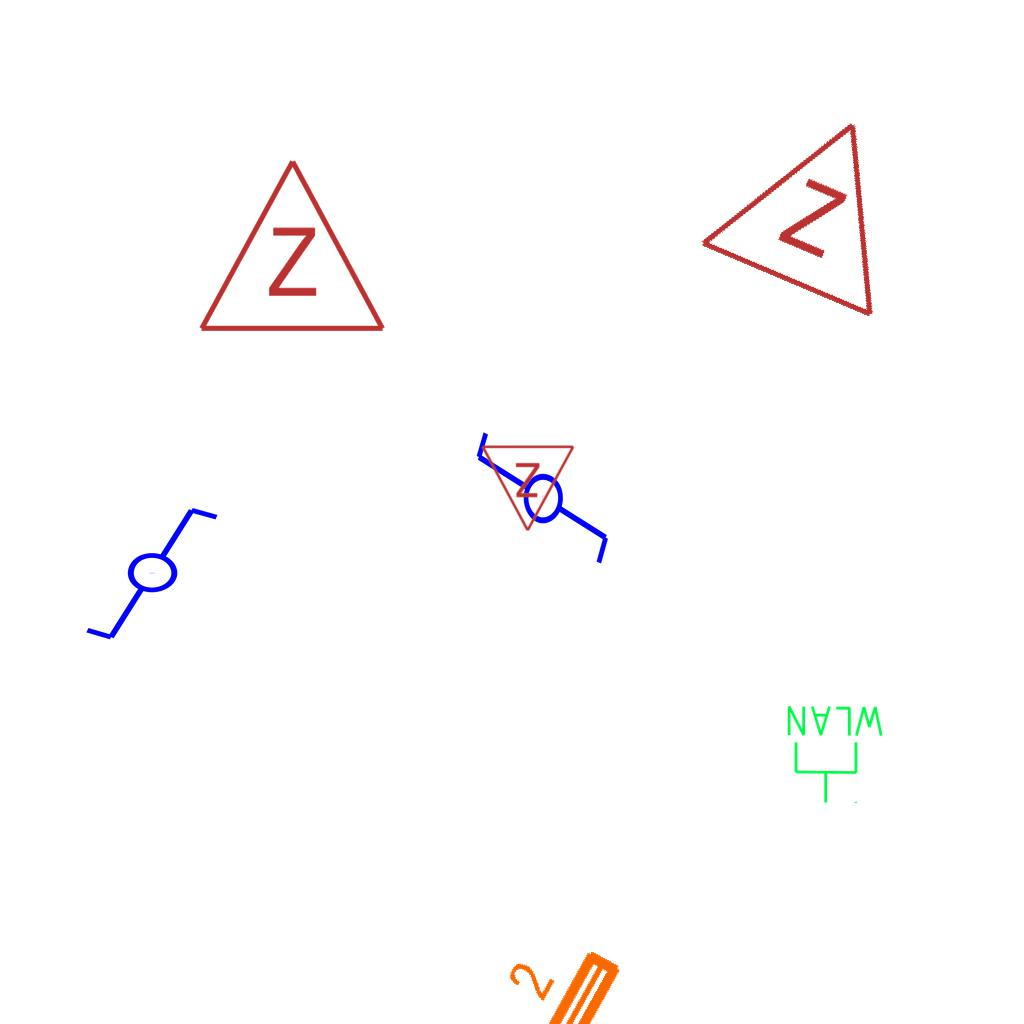Ambulanz_Pendelleuchte_LED: (163, 911, 637, 1024)
WLAN: (783, 702, 888, 806)
Wechselschalter: (469, 428, 613, 585), (82, 503, 239, 647)
Zimmersignalleuchte: (687, 71, 947, 333), (192, 146, 388, 346), (480, 438, 578, 538)
